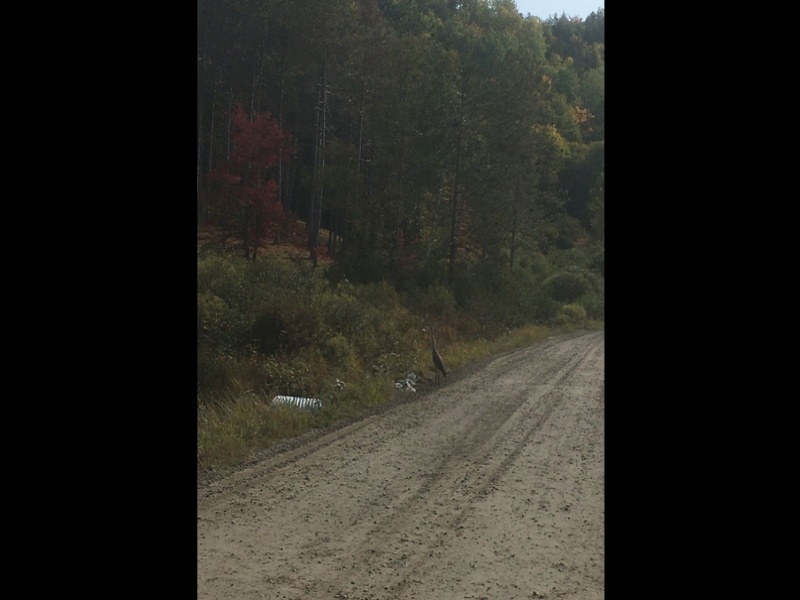heron: (426, 331, 451, 380)
